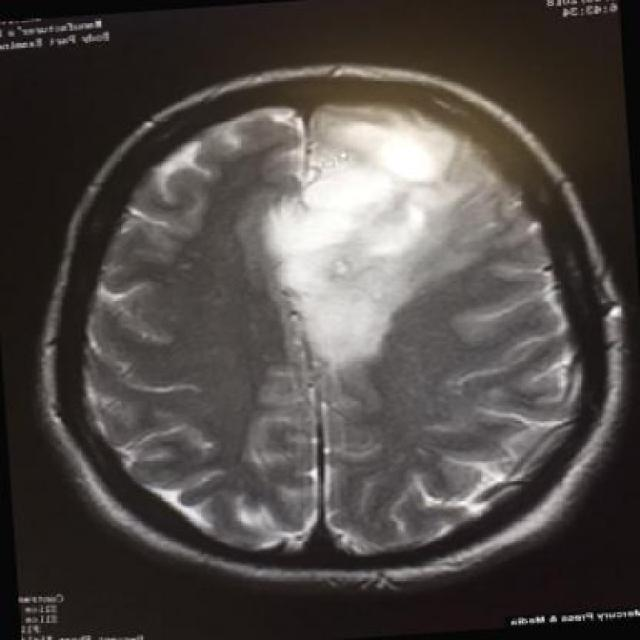Brain-Tumor: (240, 88, 536, 373)
